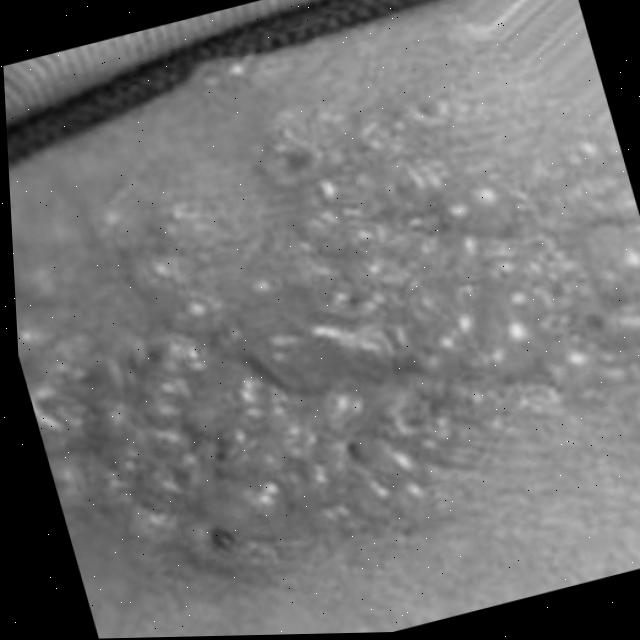Shingles: (3, 35, 640, 629)
